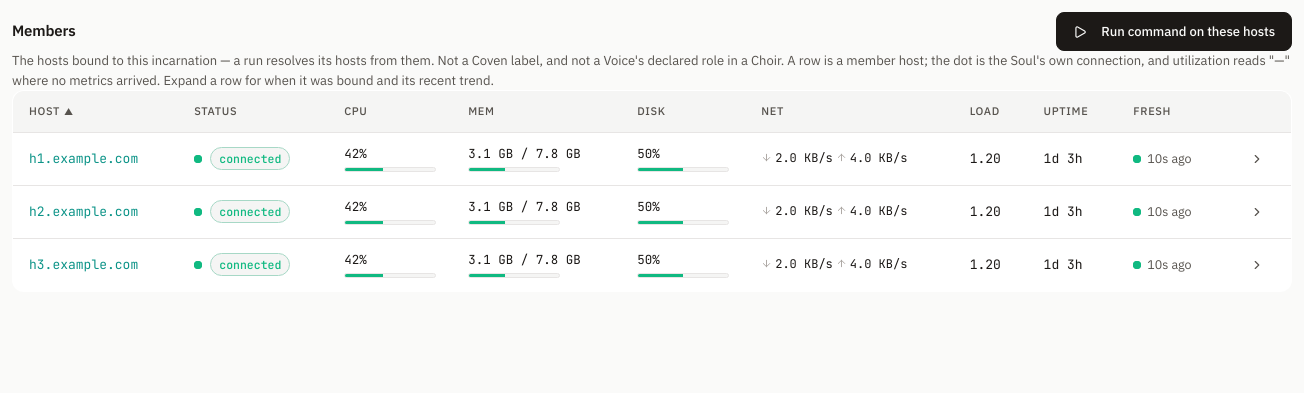
Scenario: MembersPanel — the freshness tick is confined to the freshness cells › does not re-derive the table — not on a tick, not on a render that changes no data
The image size is (1304, 393).
Check: the number of elements with test id "freshness-fresh" is 3, box [1133,149,1192,168]; [1133,202,1192,221]; [1133,255,1192,274]
Check: the text "42%" is shown 3 times, box [344,145,367,162]; [344,198,367,215]; [344,251,367,268]
Click the button named "Show details for host" at (1257, 158), box [1239,144,1275,172]
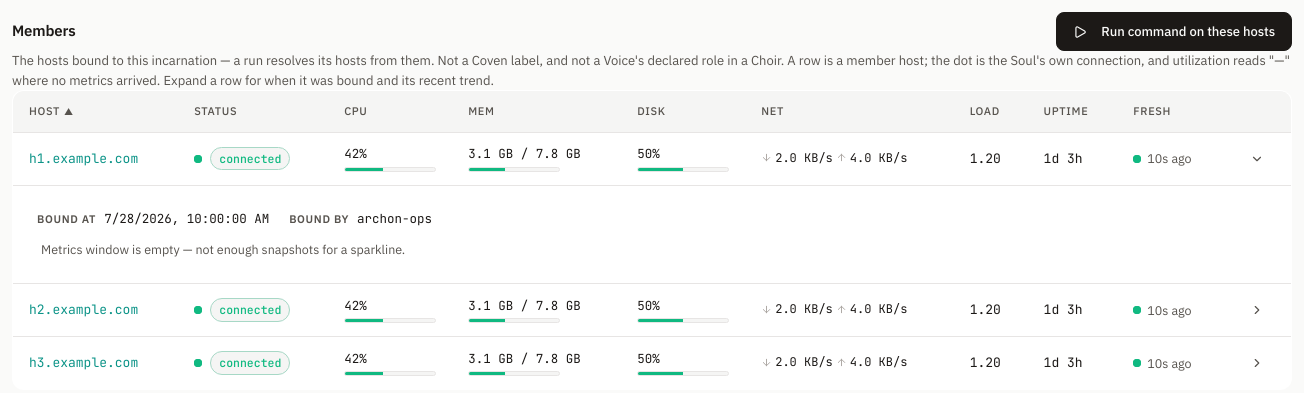
Check: the element with test id "member-facts" is shown, box [37,210,432,226]
